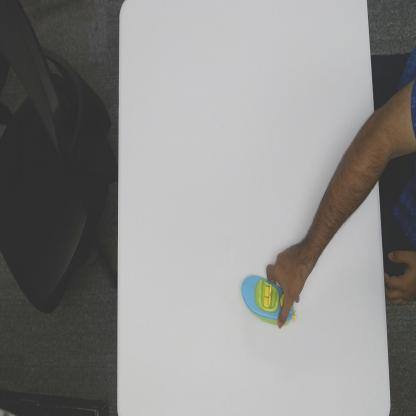Arm: (302, 104, 378, 263)
Boat: (240, 271, 298, 327)
Hand: (266, 240, 308, 330)
